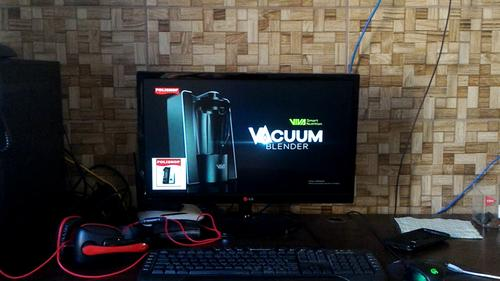Polishop #1: (152, 157, 185, 190)
